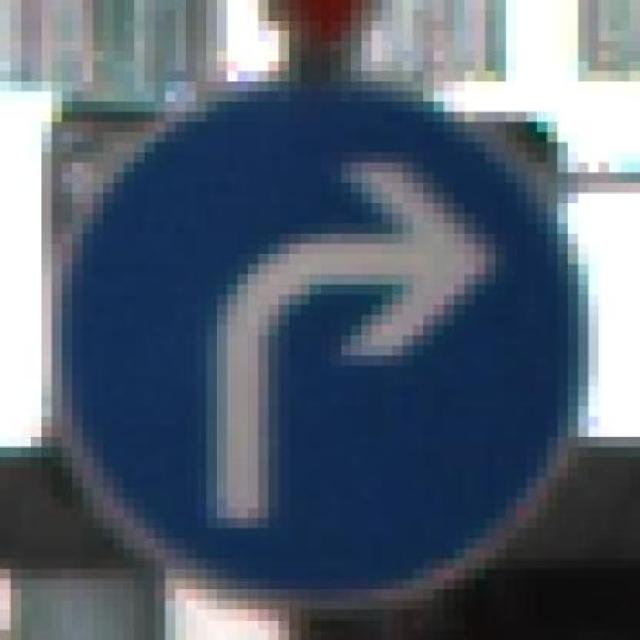Turn right ahead: (40, 54, 608, 612)
